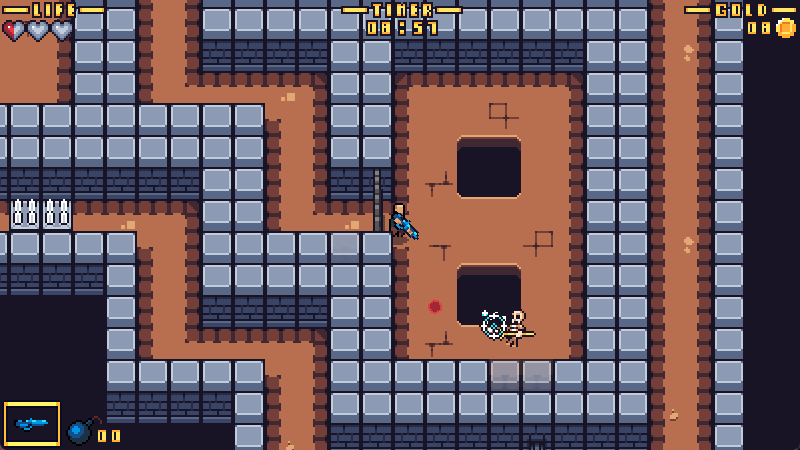aim: (480, 312, 506, 340)
enemy_skeleton: (494, 308, 535, 350)
enemy_skeleton_shoot: (427, 300, 444, 314)
health-5: (1, 18, 76, 42)
player: (388, 204, 420, 241)
trap_door: (368, 162, 386, 237)
trap_on: (9, 198, 72, 257)
